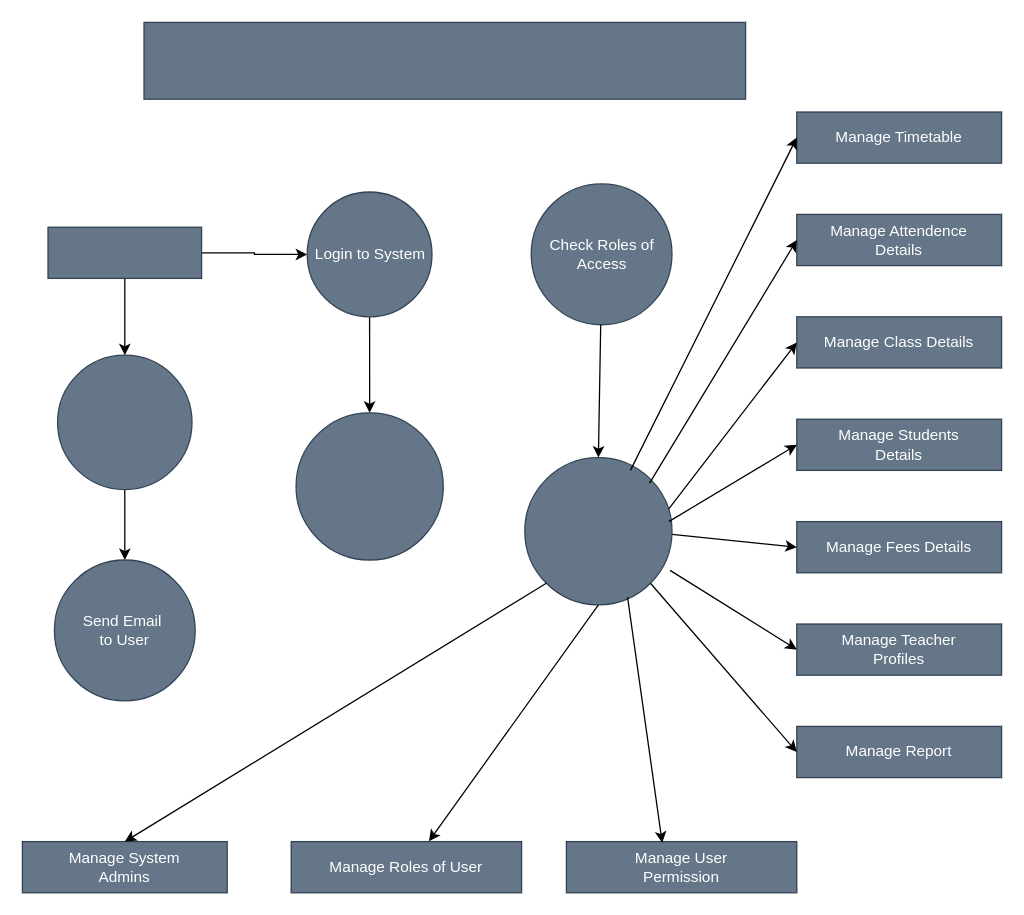
This 1024x915 diagram has some shape labels left out. Here are the shapes that lost their labels. From the top down, the centre of each, then its label:
At point 444,60: "Student Information System".
At point 124,252: "Admin".
At point 124,422: "Forgot Password".
At point 369,486: "Check Credentials".
At point 598,530: "Manage Modules".
